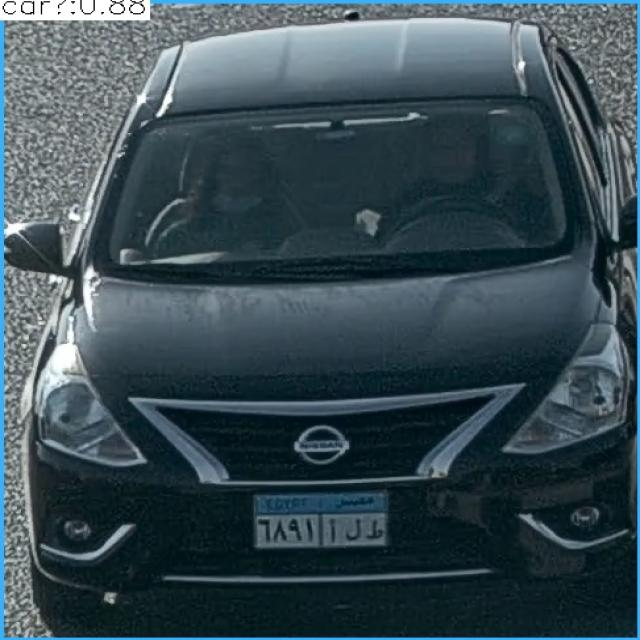windshield: (86, 108, 596, 268)
